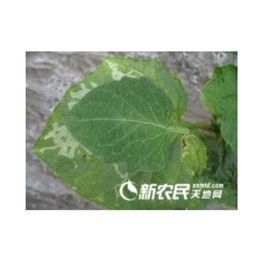liriomyza: (39, 122, 81, 161), (66, 81, 97, 111), (108, 61, 144, 81), (113, 163, 128, 198)
